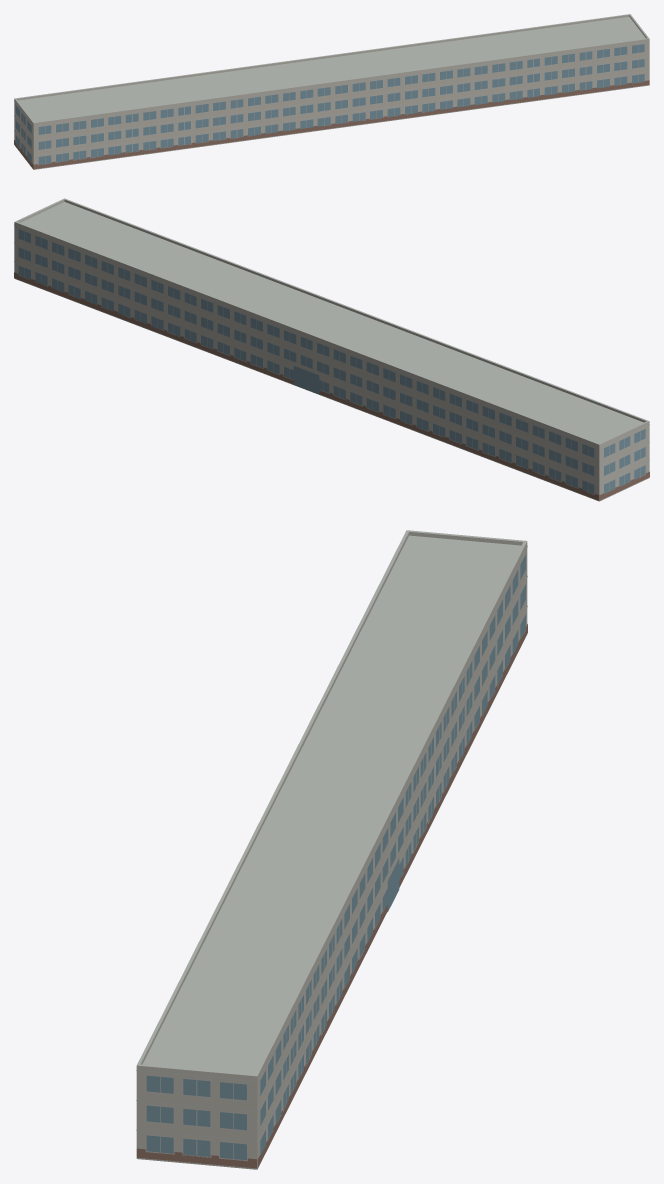
Rendered from public-b4935cab-d103-458b-b072-72e0530a5298.glb.
3 views of the same model, one above another, from view 1: azimuth 30°, elevation 25°; view 2: azimuth 150°, elevation 25°; view 3: azimuth 270°, elevation 25° (orthographic). The views are drawn at different scales.
Parts seen in each view (by area): view 1: public-b4935cab-d103-458b-b072-72e0530a5298; view 2: public-b4935cab-d103-458b-b072-72e0530a5298; view 3: public-b4935cab-d103-458b-b072-72e0530a5298.
Boxes of the visible parts, <box> form: public-b4935cab-d103-458b-b072-72e0530a5298: <box>14,14,649,169</box>; public-b4935cab-d103-458b-b072-72e0530a5298: <box>14,198,649,501</box>; public-b4935cab-d103-458b-b072-72e0530a5298: <box>136,530,527,1169</box>.
Size of the model in its own units: 115 by 9.15 by 34.81.
